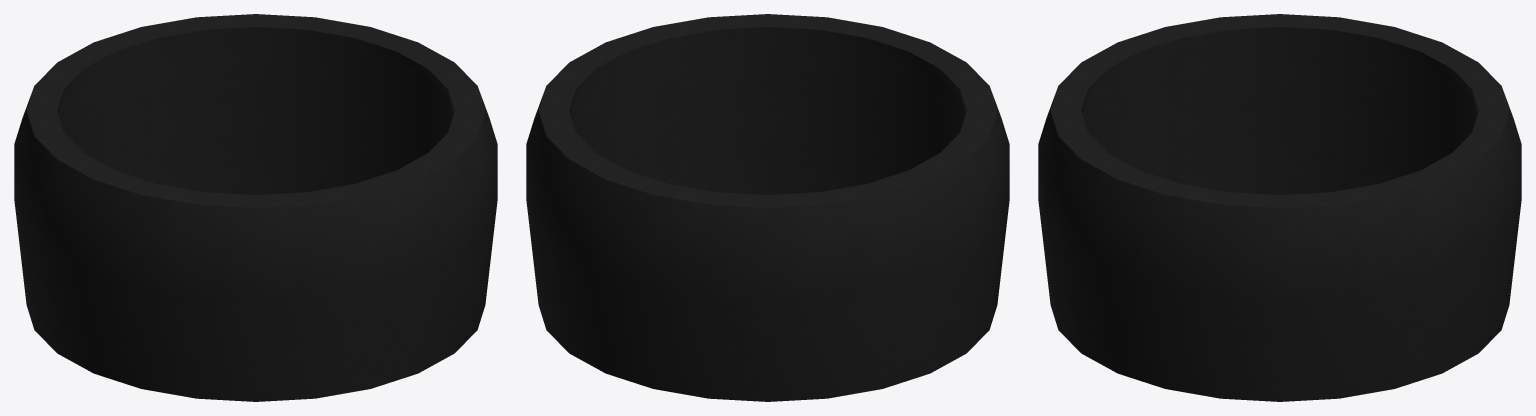
The model's file is reinf_s1p5.obj.
The picture shows the model from 3 angles, left to right: view 1: azimuth 30°, elevation 25°; view 2: azimuth 150°, elevation 25°; view 3: azimuth 270°, elevation 25°; orthographic projection.
Parts seen in each view (by area): view 1: 1; view 2: 1; view 3: 1.
Part boxes in pixels (bbox=[...]): 1: bbox=[14, 14, 497, 401]; 1: bbox=[526, 14, 1009, 401]; 1: bbox=[1038, 14, 1521, 401].
Bounding box in the file's own units: 1.98 × 0.875 × 1.98.
